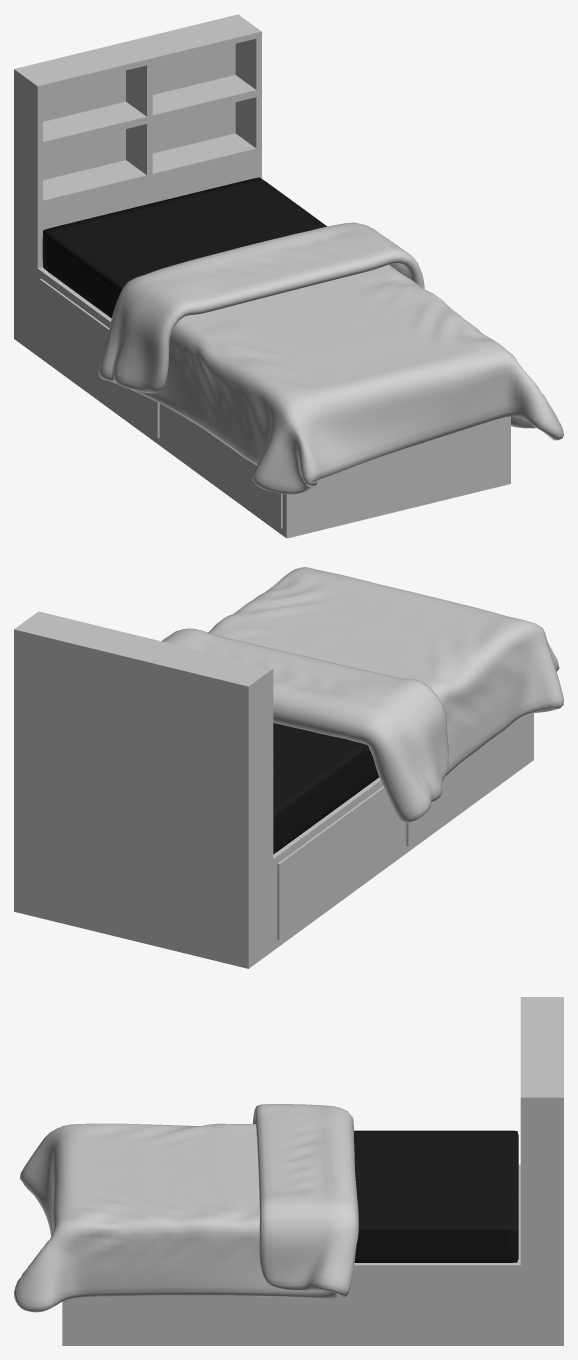
Rendered from Bed15.fbx.
The picture shows the model from 3 angles, top to bottom: view 1: azimuth 30°, elevation 25°; view 2: azimuth 150°, elevation 25°; view 3: azimuth 270°, elevation 25°; orthographic projection. The views are drawn at different scales.
Visible parts, largest first — view 1: Blanket15, BedFrame15, Mattress15, BedFrame15_Drawer01, BedFrame15_Drawer02; view 2: BedFrame15, Blanket15, BedFrame15_Drawer01, Mattress15, BedFrame15_Drawer02; view 3: Blanket15, BedFrame15, Mattress15.
Part boxes in pixels (left/top/right/bottom): Blanket15: left=98, top=222, right=563, bottom=494; BedFrame15: left=14, top=14, right=510, bottom=538; Mattress15: left=42, top=177, right=326, bottom=318; BedFrame15_Drawer01: left=39, top=278, right=159, bottom=438; BedFrame15_Drawer02: left=163, top=405, right=282, bottom=528; BedFrame15: left=14, top=611, right=533, bottom=968; Blanket15: left=161, top=567, right=563, bottom=822; BedFrame15_Drawer01: left=277, top=786, right=402, bottom=940; Mattress15: left=273, top=723, right=378, bottom=853; BedFrame15_Drawer02: left=406, top=713, right=531, bottom=846; Blanket15: left=14, top=1104, right=358, bottom=1312; BedFrame15: left=62, top=997, right=563, bottom=1345; Mattress15: left=354, top=1130, right=518, bottom=1262.
Size of the model in its own units: 150 by 123 by 247.
